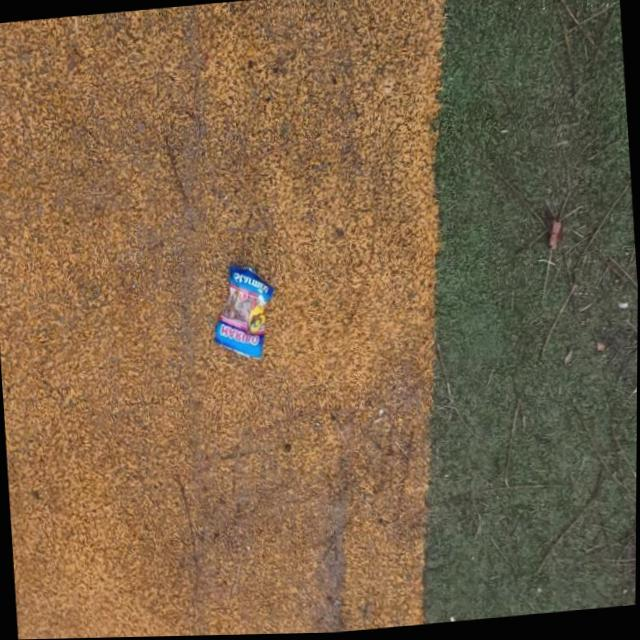Plastic: (206, 259, 279, 367)
